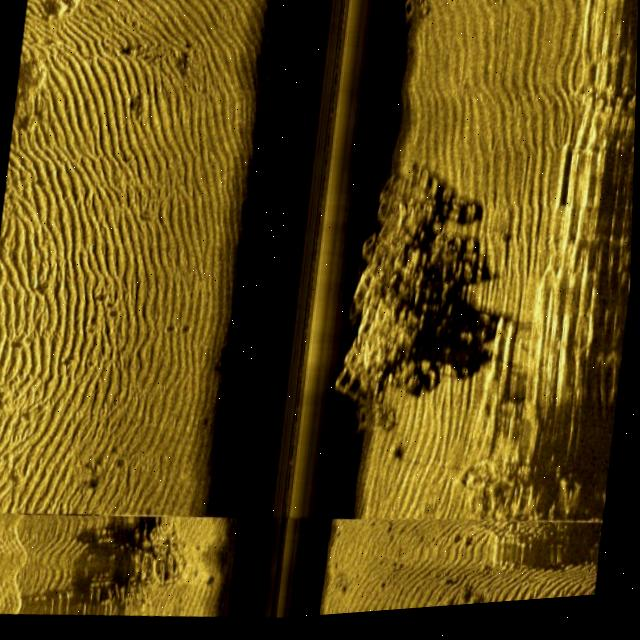artificial reef: (322, 163, 470, 440)
